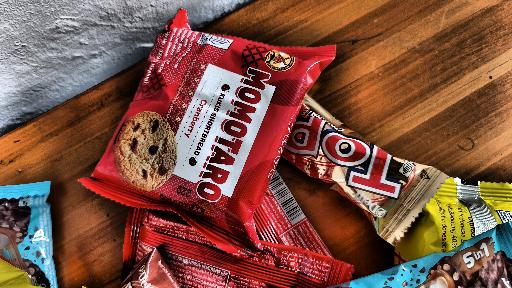chocho: (125, 203, 357, 288)
momotaro: (118, 3, 320, 243)
top: (292, 89, 448, 246)
